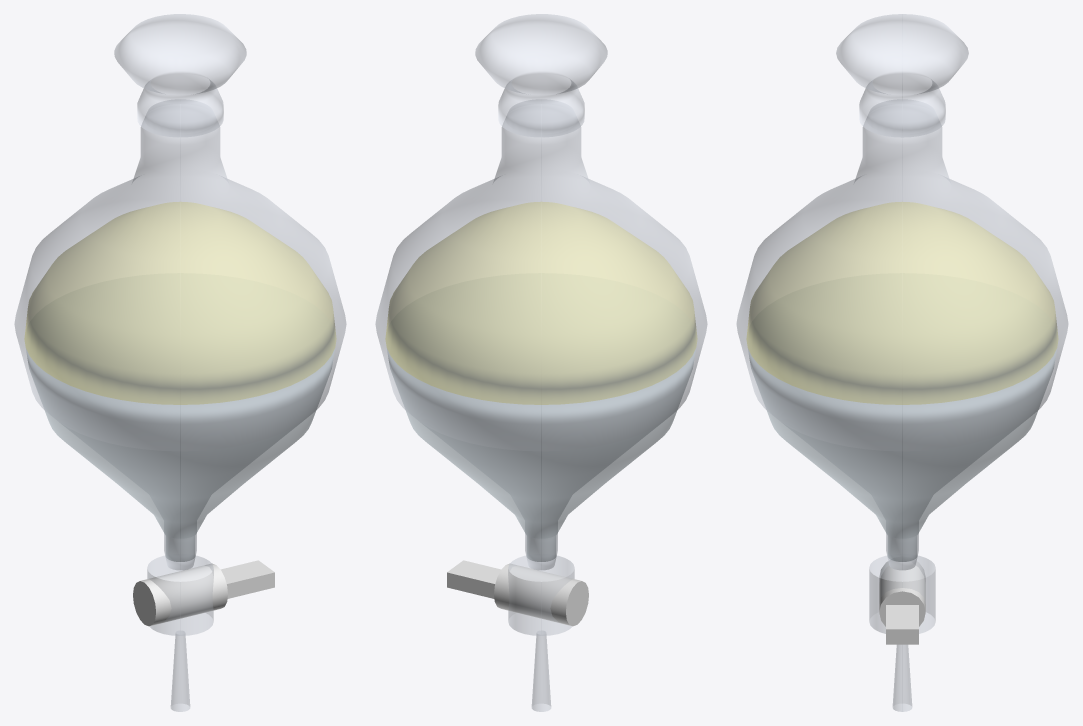
Rendered from 11_separatory_funnel.glb.
3 views of the same model, side by side, from view 1: azimuth 30°, elevation 25°; view 2: azimuth 150°, elevation 25°; view 3: azimuth 270°, elevation 25° (orthographic).
Bounding box in the file's own units: 10 × 22.35 × 10.
